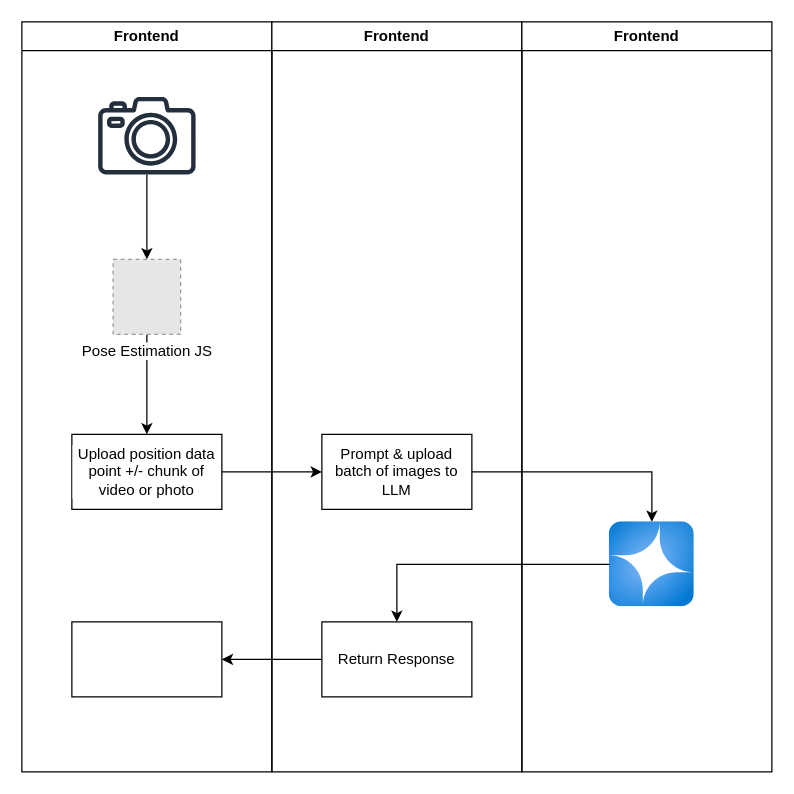
The diagram is 794 pixels wide and 794 high, and some of its shapes have lost their labels. Grey dashed boxes stand in for pictures. The shapes that lost their labels are listed below. From the top down, each one's box as (x1, y1, x2, y2) in pixels, then its label:
(98, 96, 195, 174): Record VDO
(609, 521, 694, 606): LLM generates response Text
(71, 621, 222, 697): Display Result
